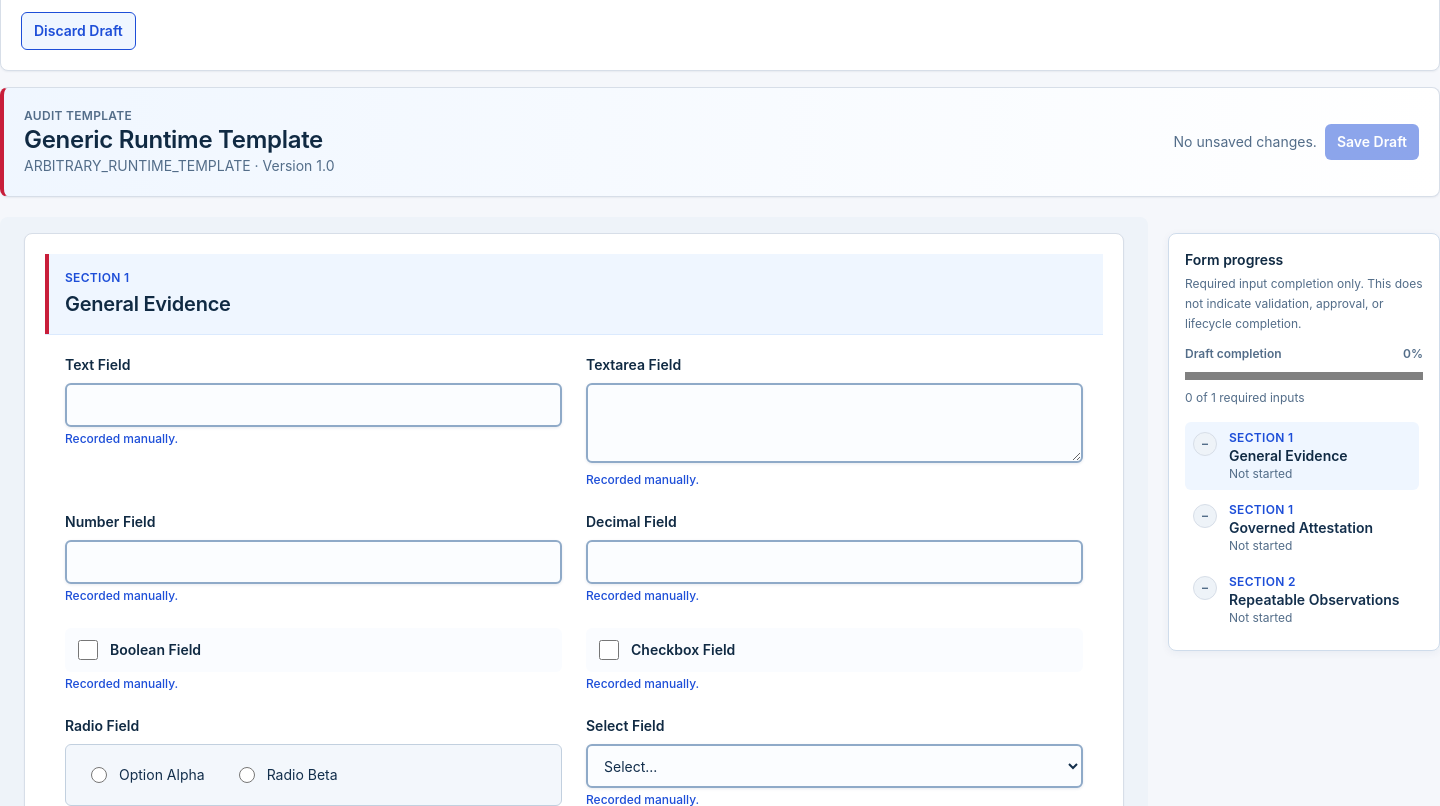
Test case: Generic OETS renderer › suppresses governed signing and finalization while a persisted draft is dirty
The width and height of the screenshot is (1440, 806).
(page scrolled)
Expected: the button "Discard Draft" is enabled, 21,12 -> 136,50
Expected: the button "Save Draft" is disabled, 1325,124 -> 1419,160
Step 1. Type "Unsaved evidence B" into the field labelled "Text Field" → (314, 405), box 65,383 -> 562,427
(page scrolled)
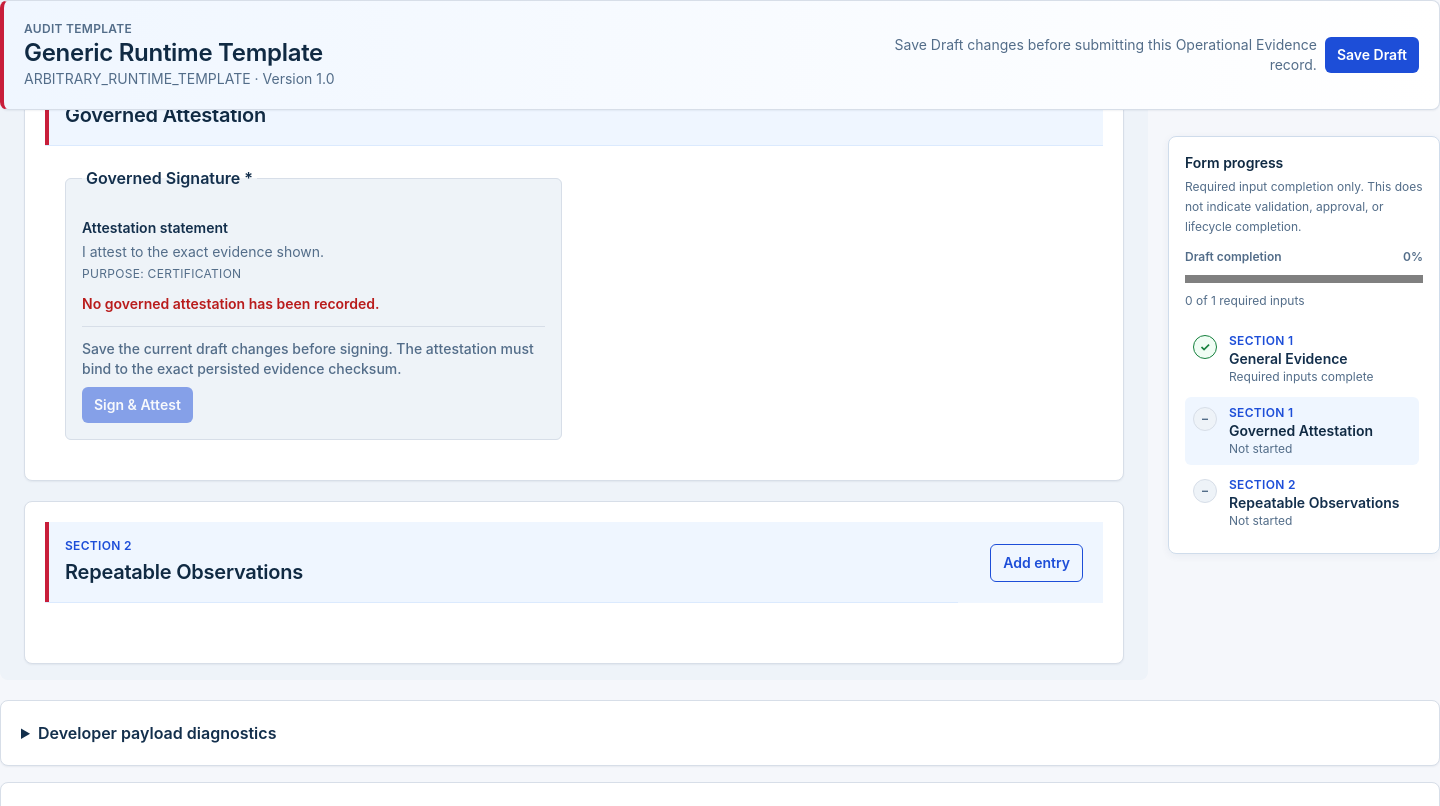
Expected: the button "Sign & Attest" is disabled, 82,387 -> 193,423
Now the button "Save Draft" is enabled, box 1325,37 -> 1419,73
